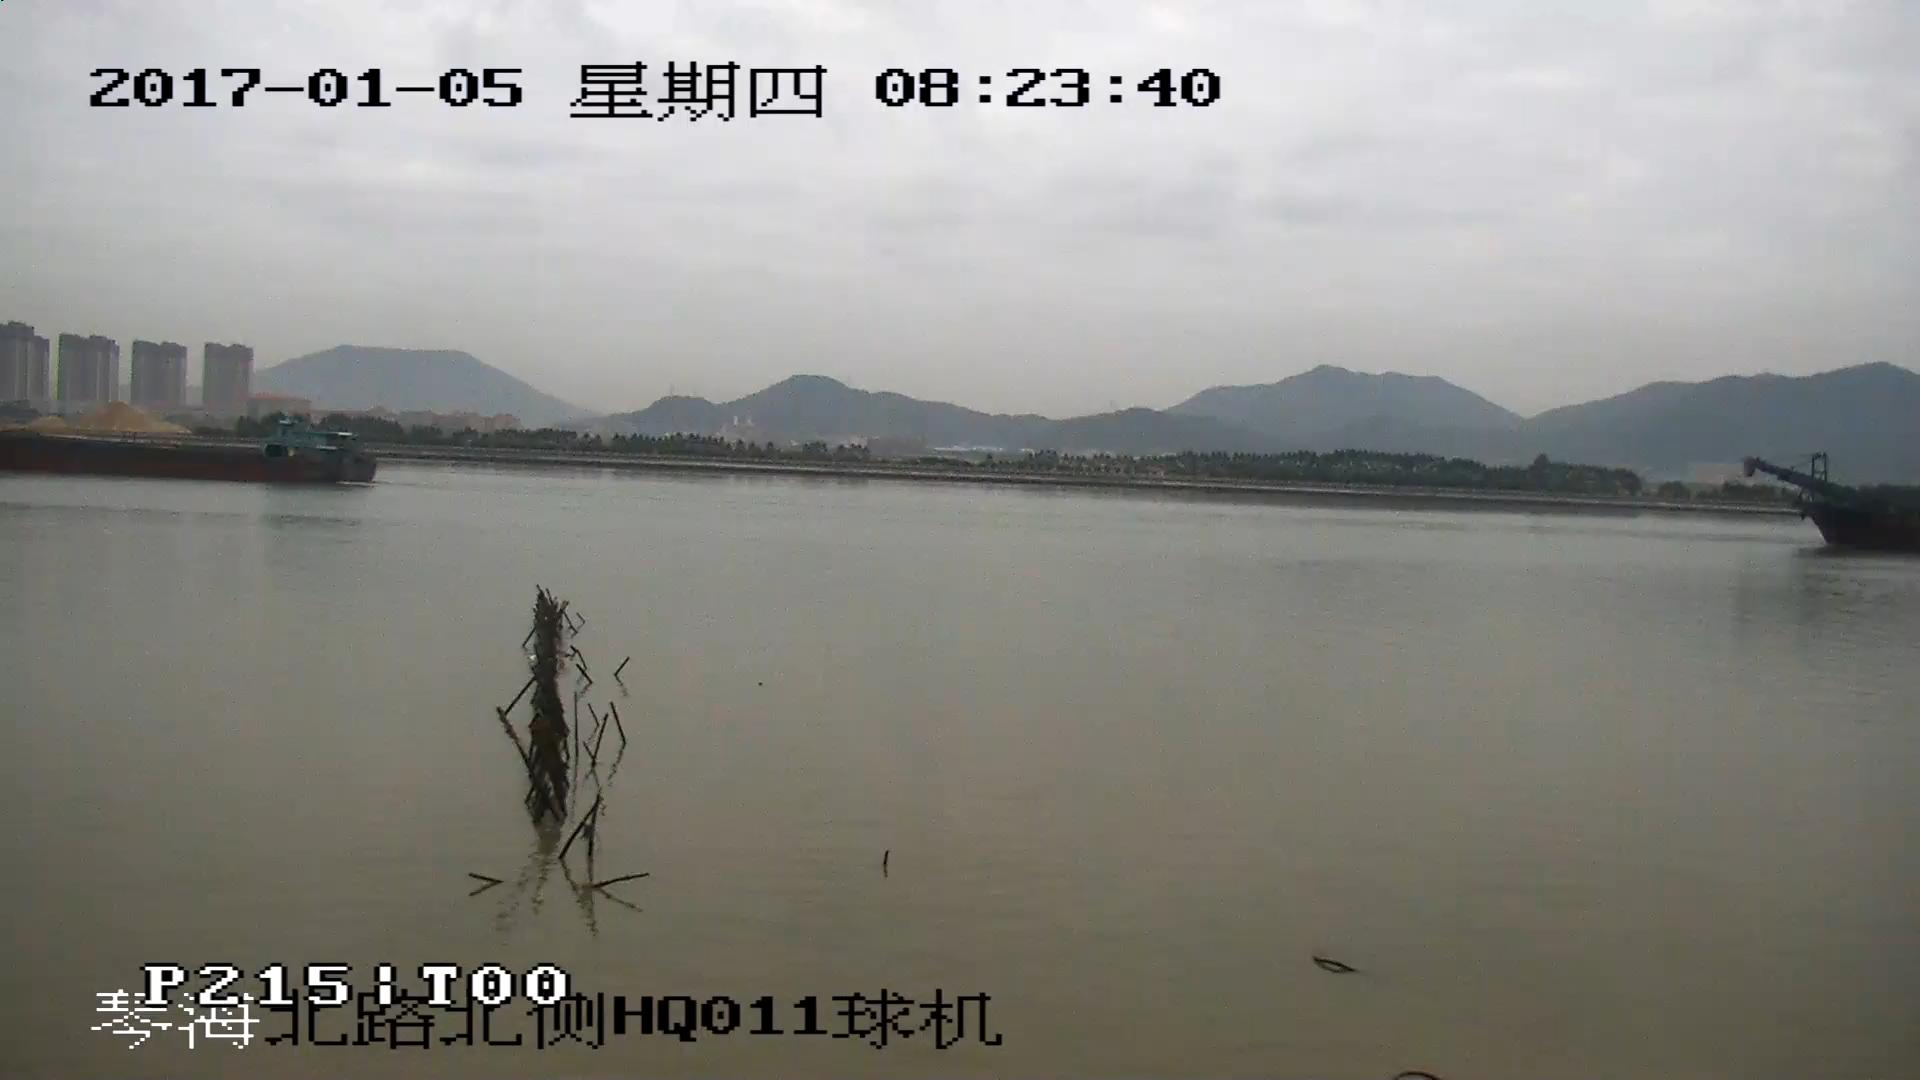bulk cargo carrier: (1, 421, 378, 482), (1745, 457, 1920, 548)
